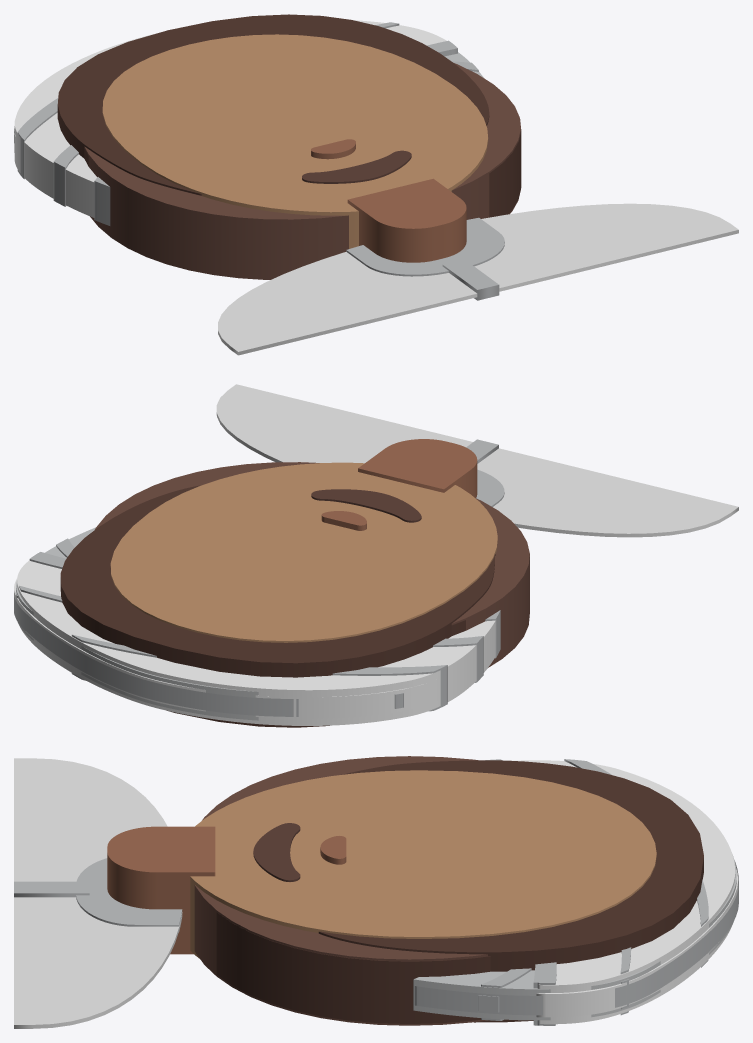
Rendered from emoji_u1f473_1f3fd_200d_2640.glb.
3 views of the same model, one above another, from view 1: azimuth 30°, elevation 25°; view 2: azimuth 150°, elevation 25°; view 3: azimuth 270°, elevation 25° (orthographic). The views are drawn at different scales.
Visible parts, largest first — view 1: emoji_u1f473_1f3fd_200d_2640; view 2: emoji_u1f473_1f3fd_200d_2640; view 3: emoji_u1f473_1f3fd_200d_2640.
Boxes of the visible parts, x1,y1,x2,y2 form: emoji_u1f473_1f3fd_200d_2640: (14,14,738,355); emoji_u1f473_1f3fd_200d_2640: (14,384,738,727); emoji_u1f473_1f3fd_200d_2640: (14,756,738,1028).
Bounding box in the file's own units: 0.0294 × 0.0044 × 0.0337.
